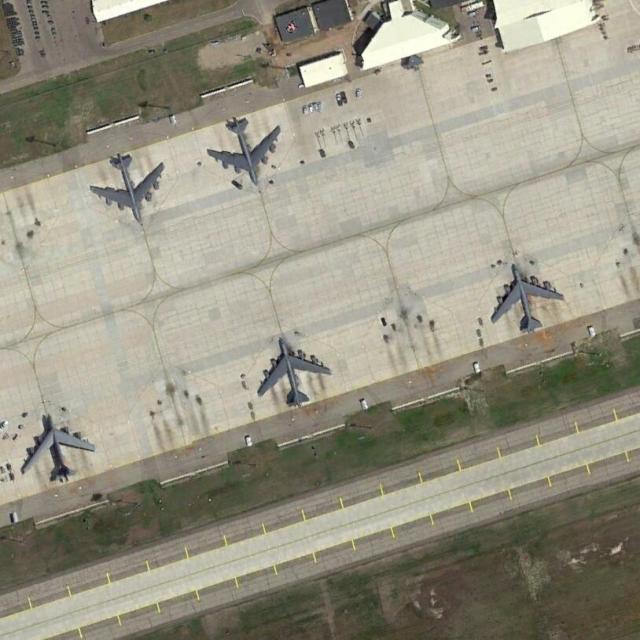fighter jet: (492, 259, 560, 338), (261, 341, 328, 411), (211, 124, 281, 184), (24, 412, 83, 483), (99, 154, 158, 222)
